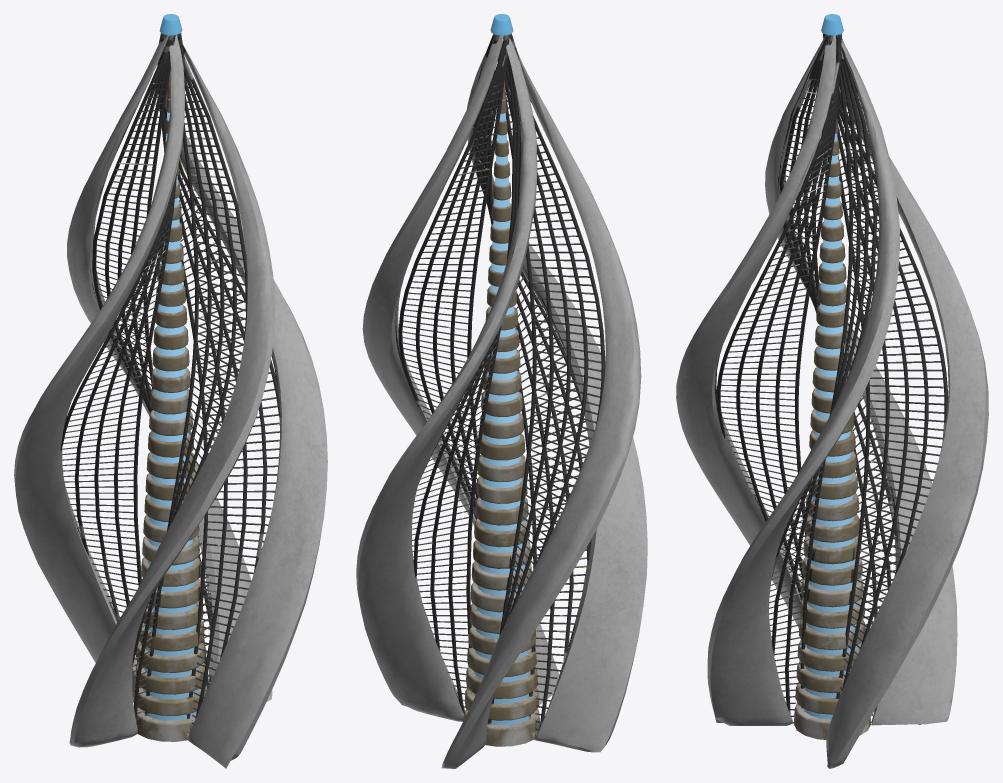
The model's file is sci-fi_building_2.glb.
3 views of the same model, side by side, from view 1: azimuth 30°, elevation 25°; view 2: azimuth 150°, elevation 25°; view 3: azimuth 270°, elevation 25° (orthographic).
Visible parts, largest first — view 1: base, pipes, base2, glass; view 2: base, pipes, base2, glass; view 3: base, pipes, base2, glass.
Part boxes in pixels (<box>): base: <box>14,34,327,768</box>; pipes: <box>60,33,280,726</box>; base2: <box>134,70,207,741</box>; glass: <box>141,99,199,720</box>; base: <box>356,35,647,768</box>; pipes: <box>398,33,605,737</box>; base2: <box>464,39,539,746</box>; glass: <box>473,99,531,725</box>; base: <box>676,34,988,768</box>; pipes: <box>716,33,947,724</box>; base2: <box>794,118,870,739</box>; glass: <box>803,133,859,719</box>.
Size of the model in its own units: 80.87 by 202 by 80.96.
1 material, 1 textured.
